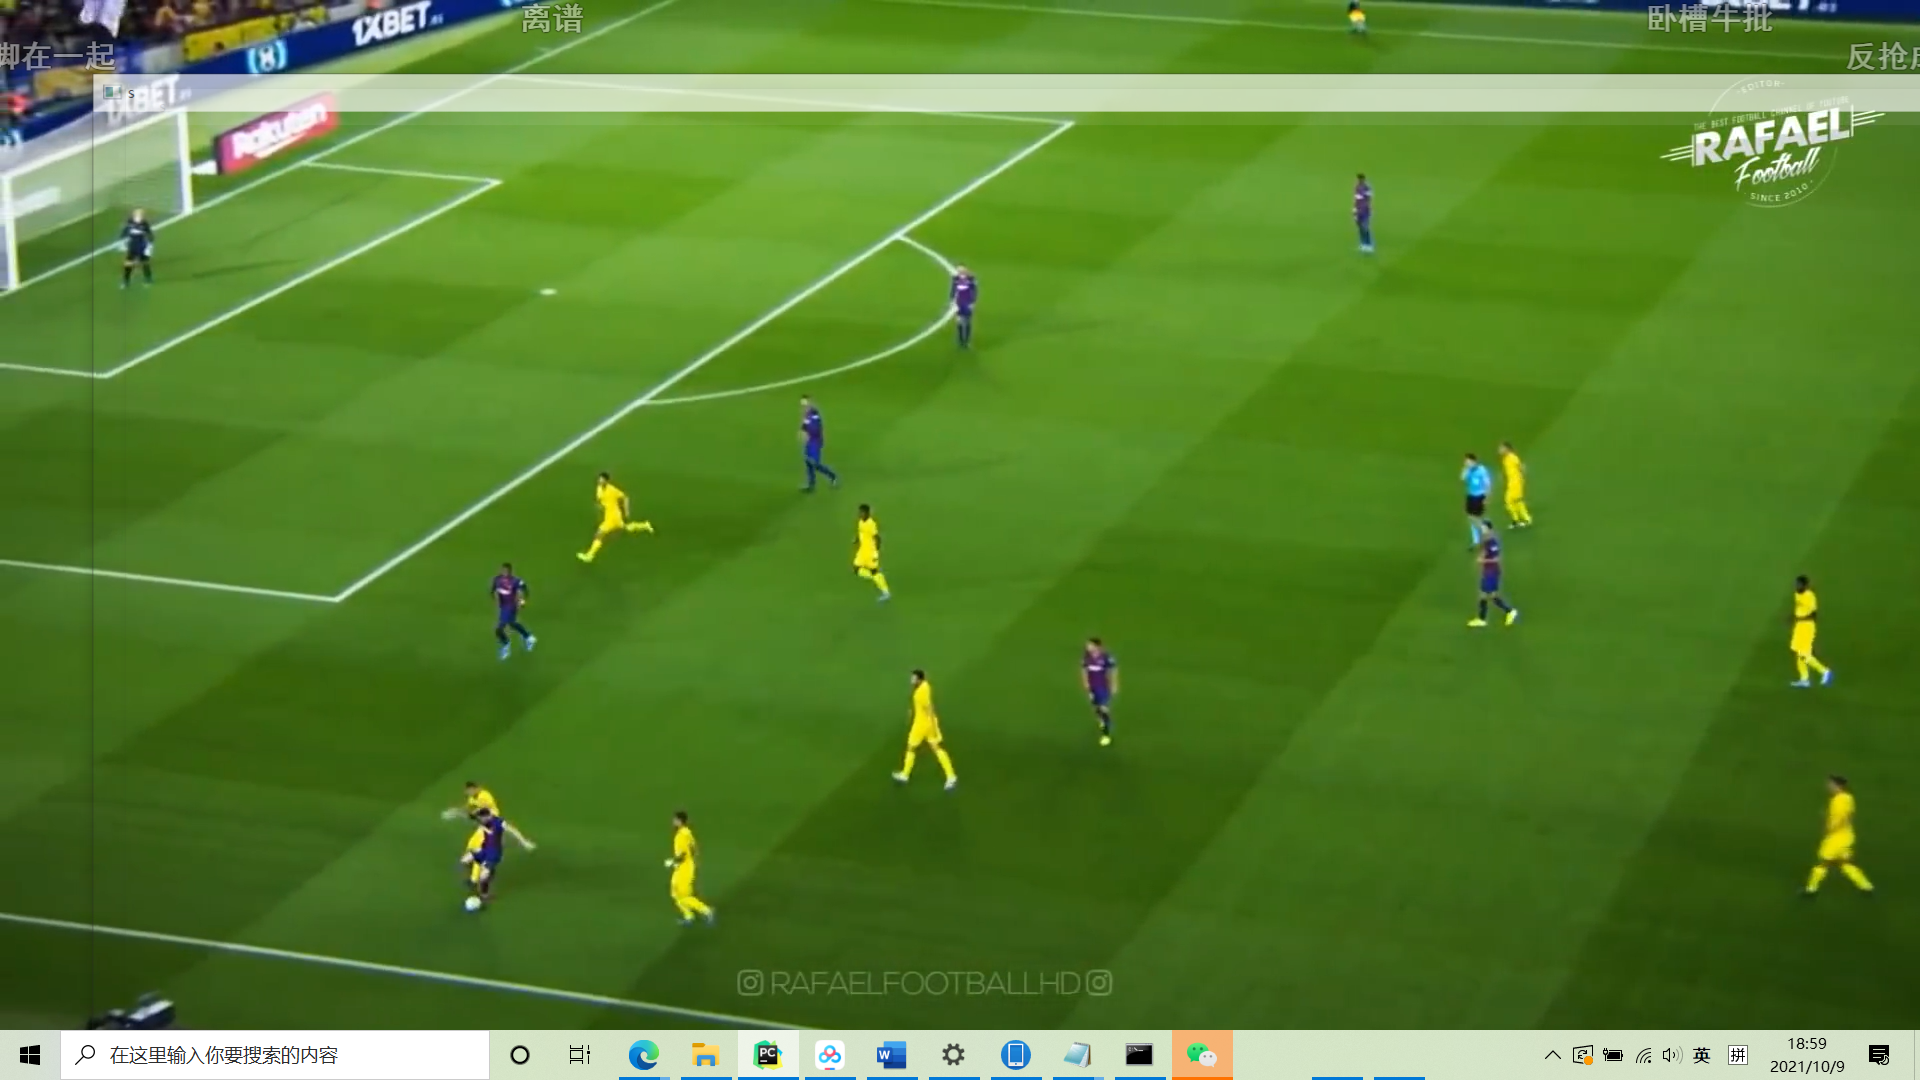ft: (463, 895, 483, 913)
